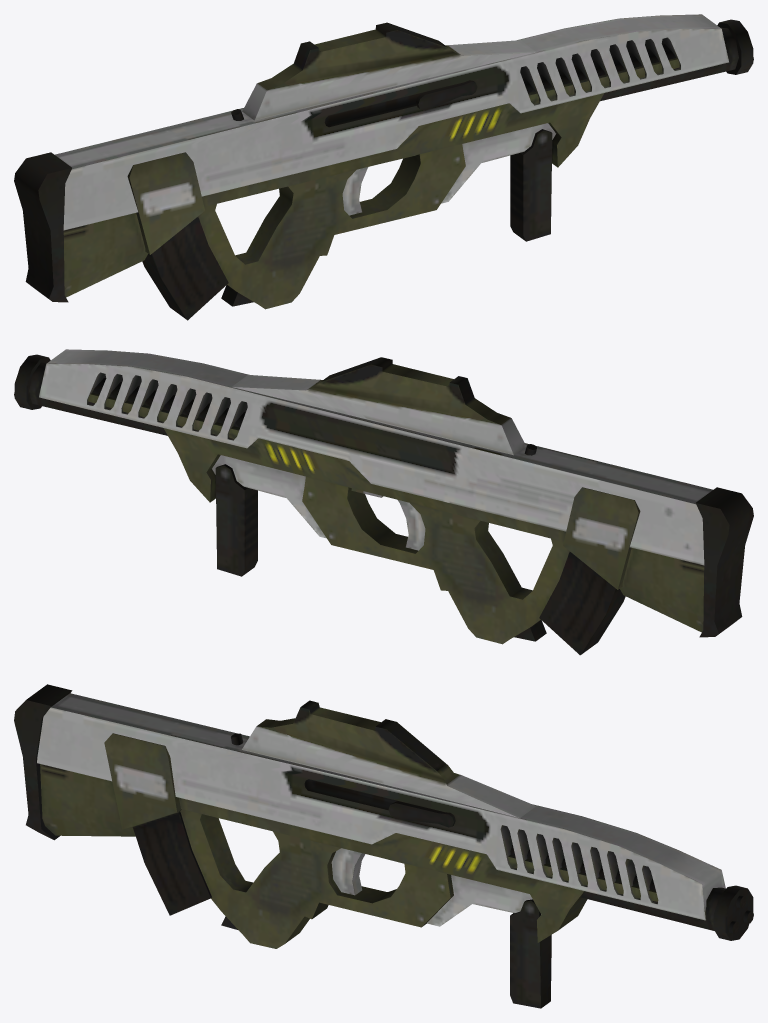
Rendered from whitestar_med_gun.glb.
3 renders of one model, top to bottom at view 1: azimuth 30°, elevation 25°; view 2: azimuth 150°, elevation 25°; view 3: azimuth 330°, elevation 25°, orthographic.
Parts seen in each view (by area): view 1: weapons/whitestar_med_gun_0; view 2: weapons/whitestar_med_gun_0; view 3: weapons/whitestar_med_gun_0.
Part boxes in pixels (bbox=[...]): weapons/whitestar_med_gun_0: bbox=[14, 14, 753, 320]; weapons/whitestar_med_gun_0: bbox=[14, 349, 753, 655]; weapons/whitestar_med_gun_0: bbox=[14, 684, 753, 1008].
Bounding box in the file's own units: 2 × 0.6549 × 0.1398.
1 material, 1 textured.
